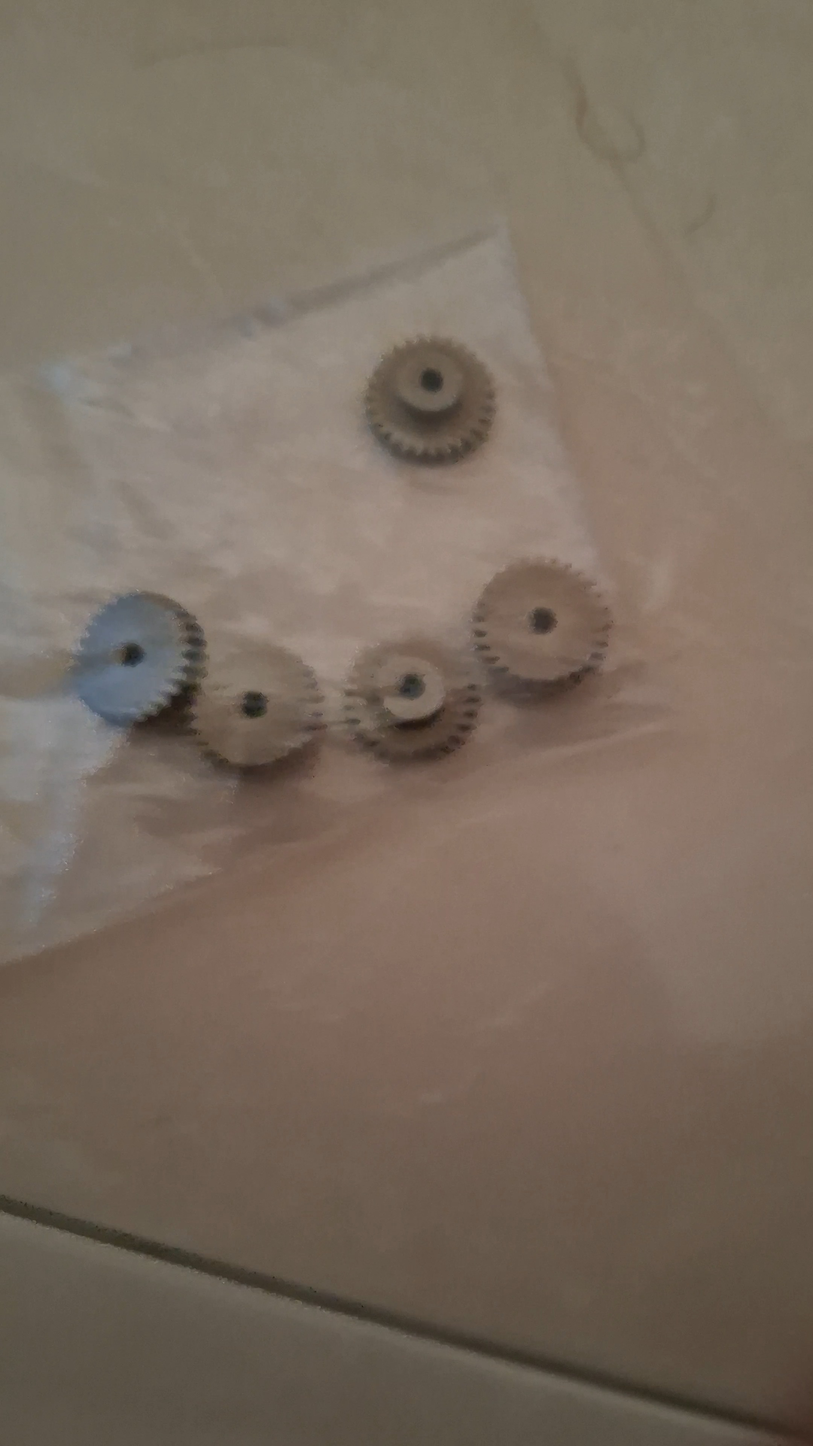spur gear: (69, 592, 204, 725), (473, 560, 611, 690), (345, 638, 480, 760), (365, 337, 494, 463), (192, 645, 322, 768)
